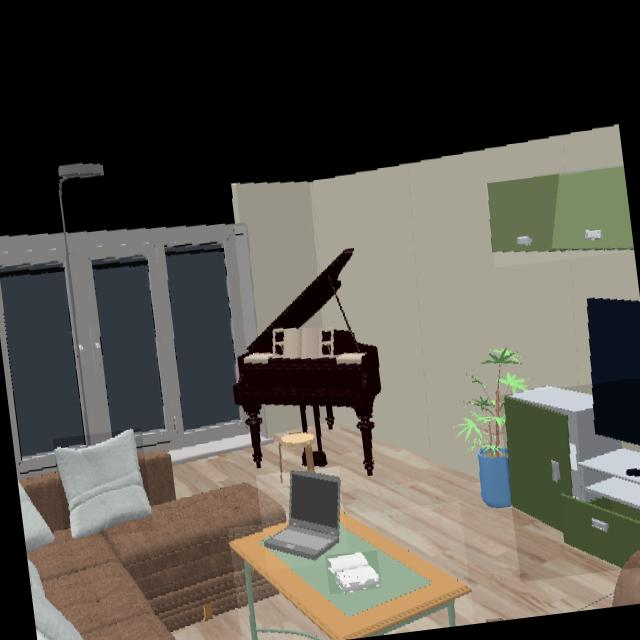book: (325, 553, 381, 592)
chair: (504, 389, 640, 569), (486, 166, 634, 253)
laptop: (265, 471, 343, 564)
pillow: (54, 430, 152, 540), (27, 559, 83, 640), (17, 481, 53, 555)
sofa: (26, 471, 286, 640)
table: (230, 515, 470, 640)
